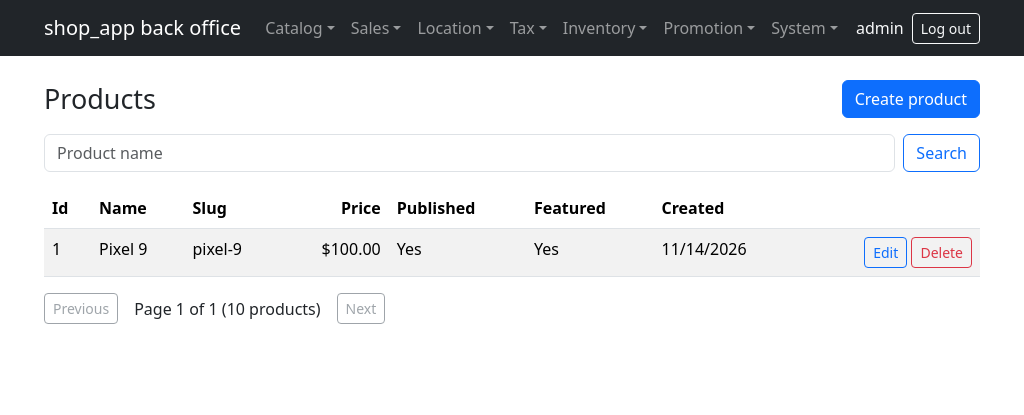
Products list › confirms before deleting a product
This screenshot has width=1024, height=415.
What coordinates should you click on to do the following:
click the button "Delete"
I would click on:
 (942, 252)
Its box is [911,237,972,268].
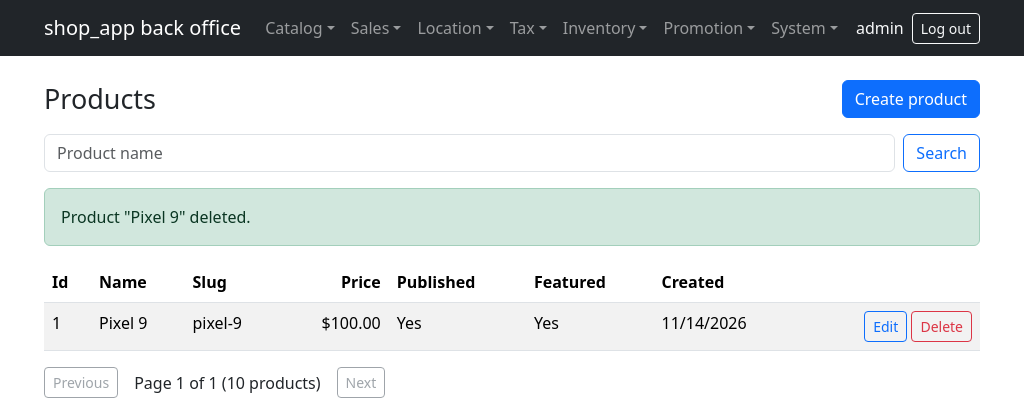
Expected: the text "Product \"Pixel 9\" deleted." is shown, [44,188,980,246]
